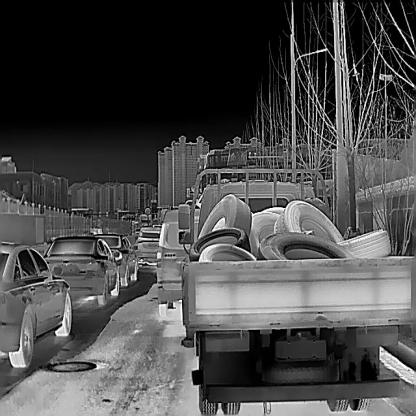car: (0, 238, 73, 368), (39, 233, 120, 306), (155, 203, 204, 319), (88, 232, 138, 286), (133, 224, 165, 270)
truck: (176, 163, 416, 412)
